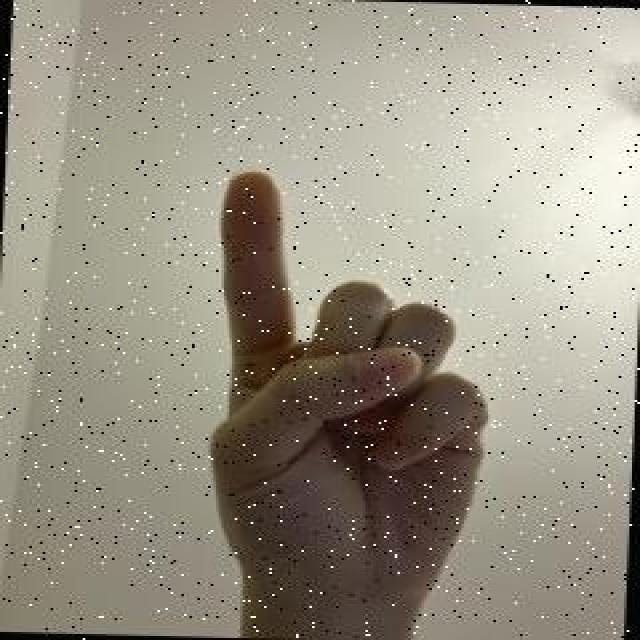Z: (193, 160, 508, 602)
